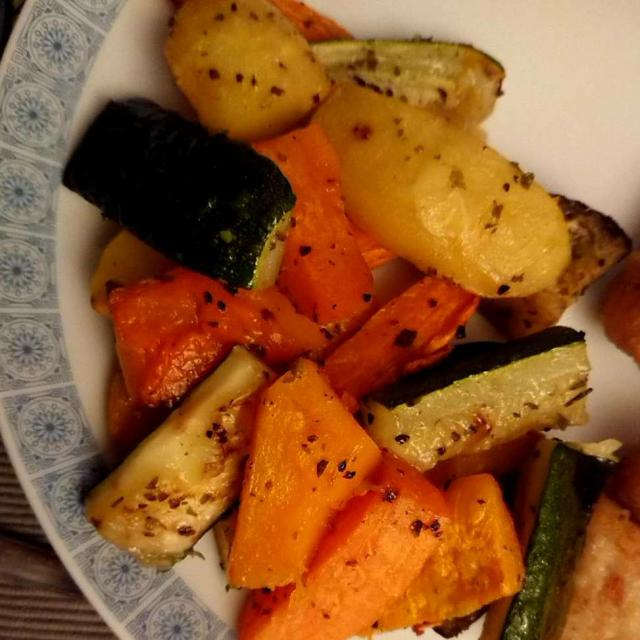baked-potato: (192, 5, 560, 301)
eggplant: (502, 192, 632, 330)
pumpkin: (240, 362, 449, 629)
sweet-potato: (125, 125, 541, 626)
zucchini: (49, 99, 622, 639)
